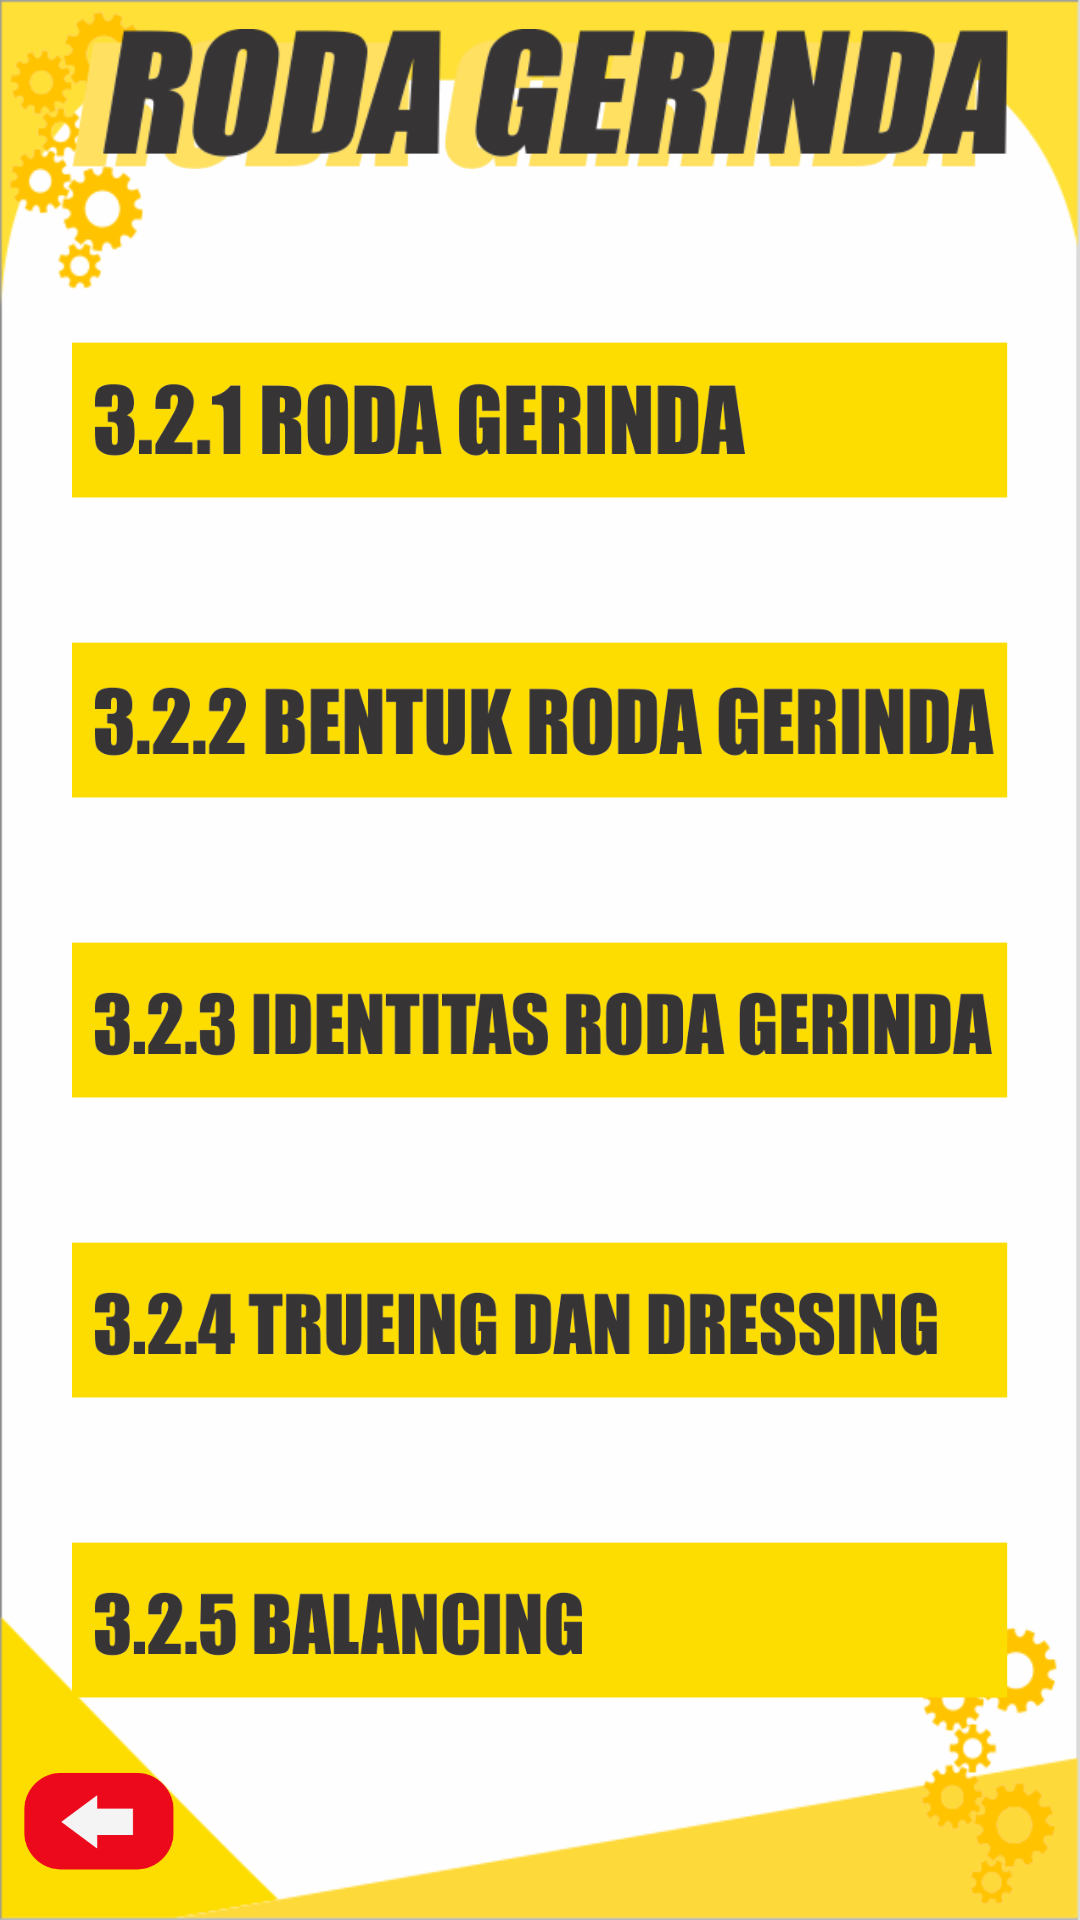

Icon click points for this 1080px x 1920px phone screenshot, format [x,y]:
back: [99,1808]
